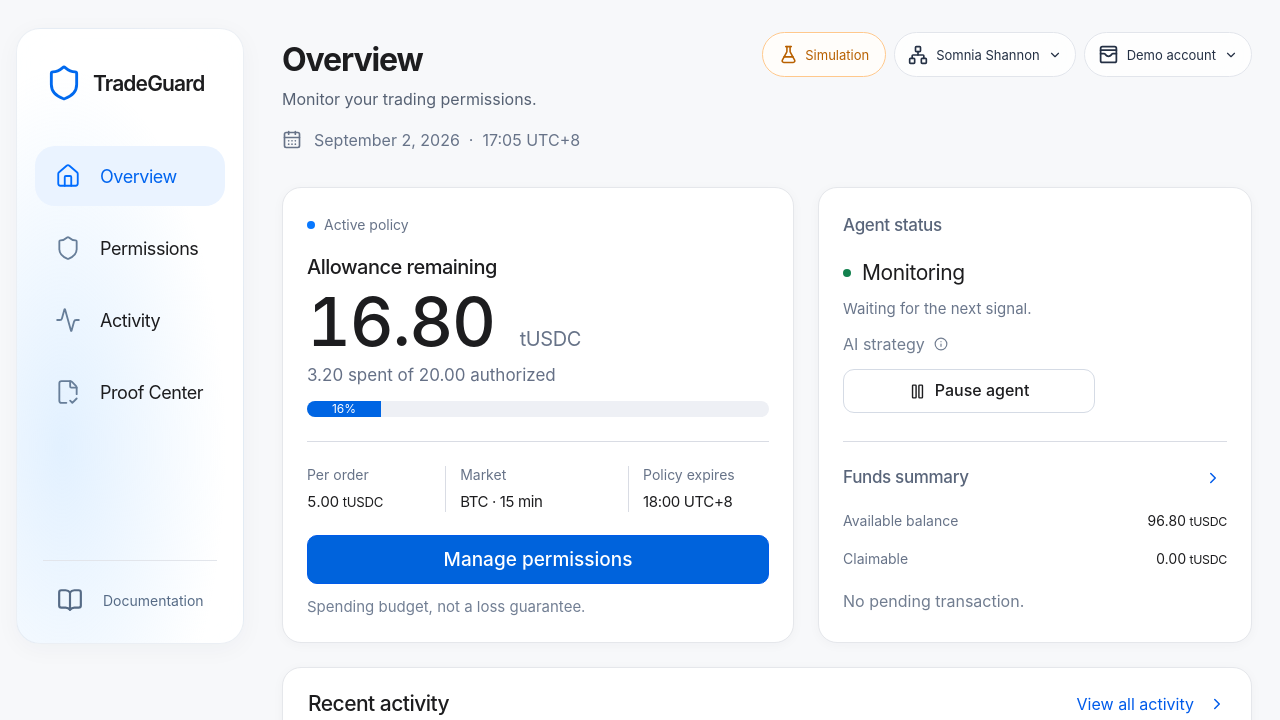
Test: working product flows › keeps the page usable after an excessive withdrawal
Click the button named "View positions & funds".
click(1213, 478)  # box [1199,464,1227,492]
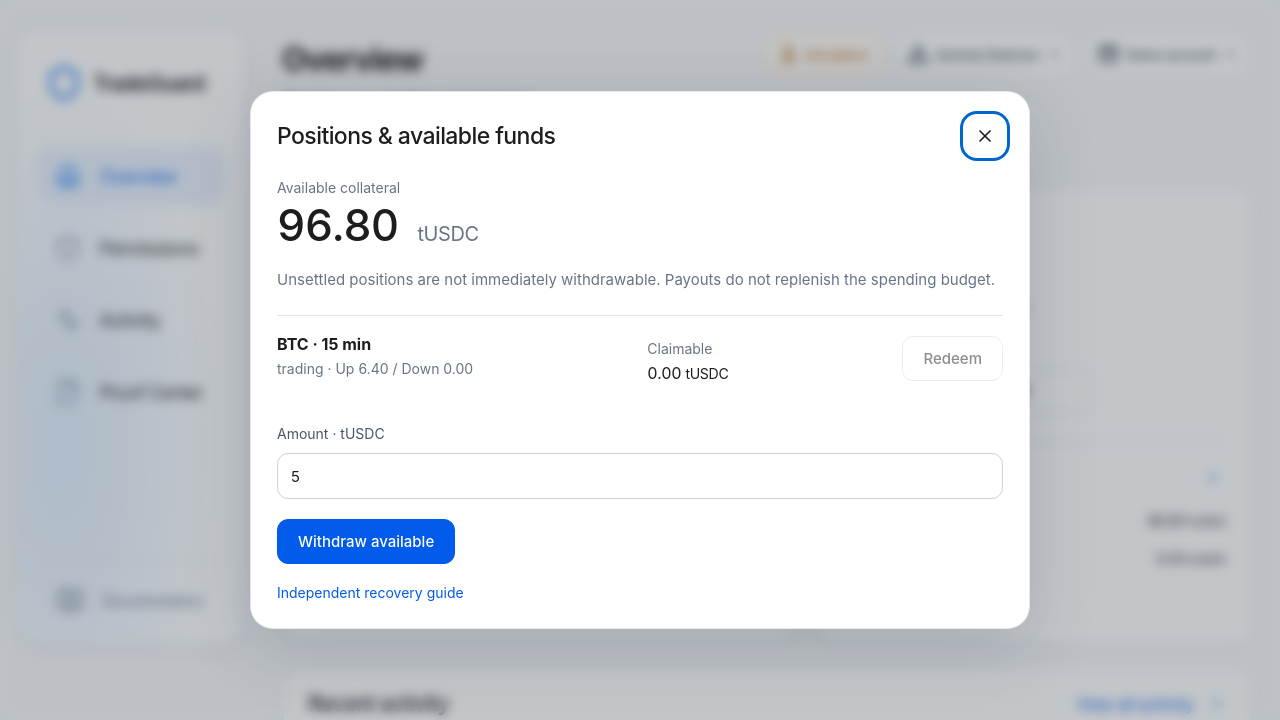
Replace the text in the field labelled "Amount · tUSDC" with "500" at (640, 476), box [277,453,1003,499]
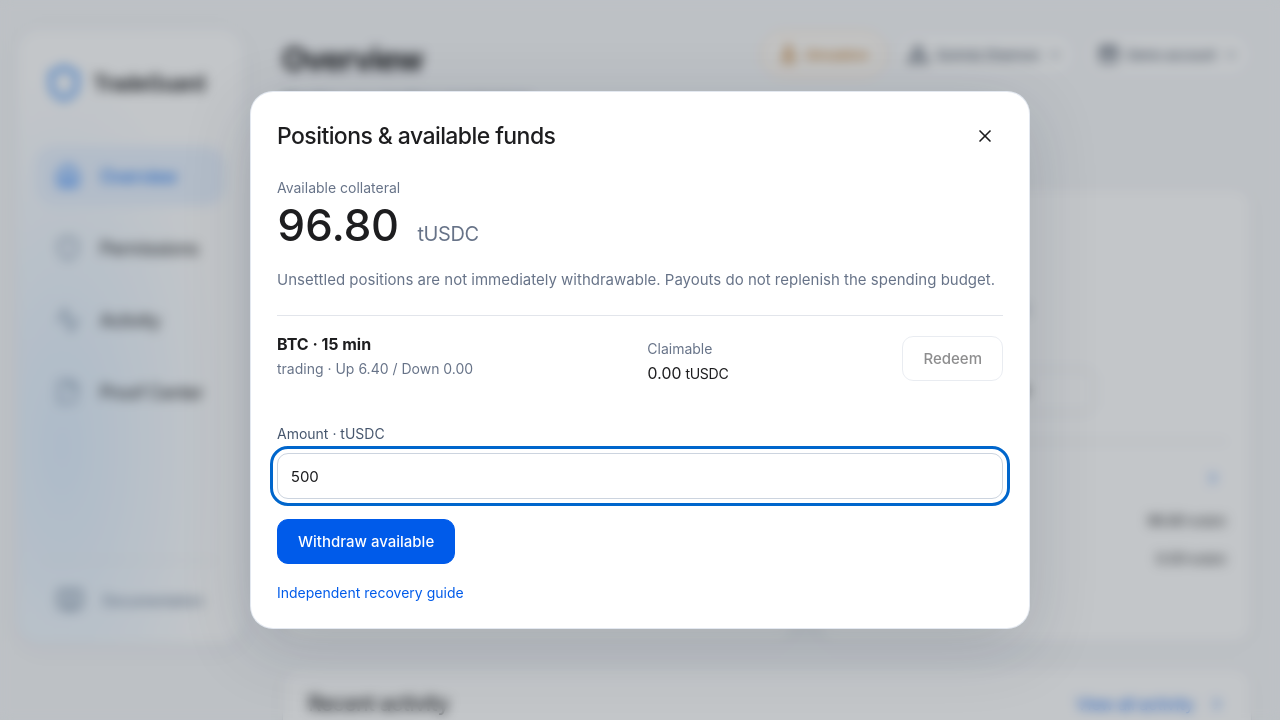
Click the button "Withdraw available".
click(366, 542)  # box [277,519,455,564]
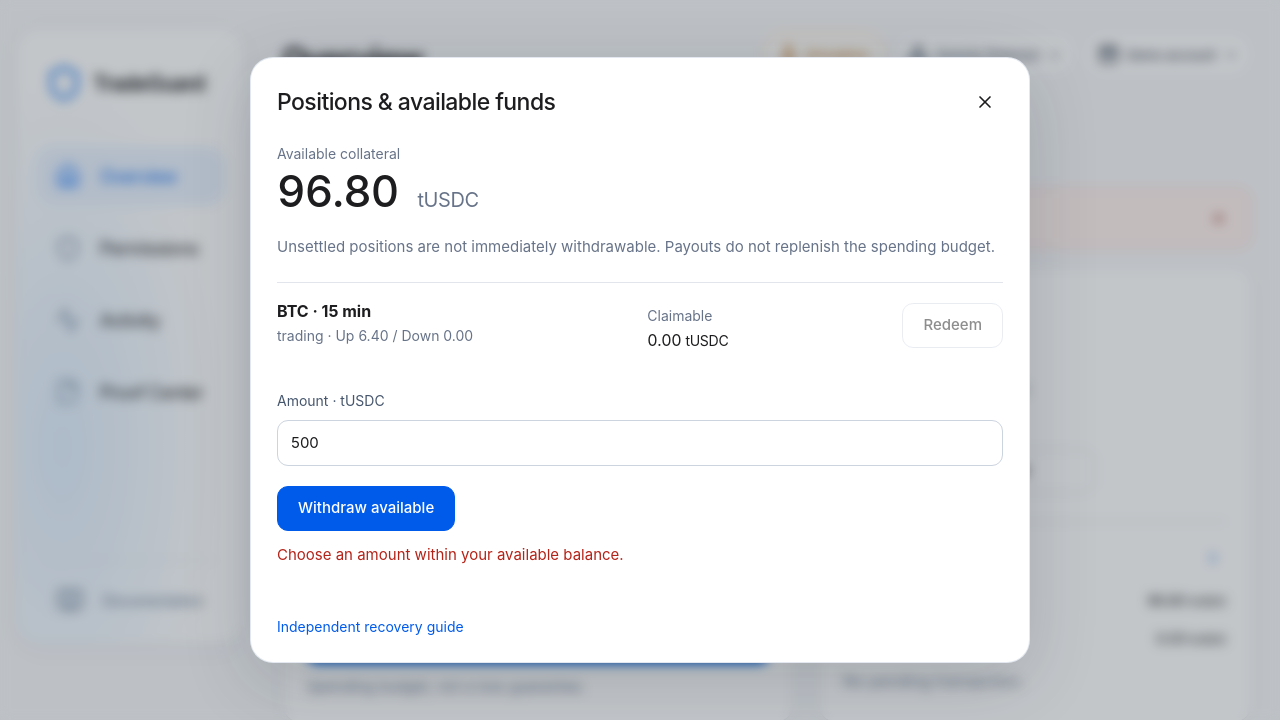
Check: the dialog shows "Choose an amount within your available balance.", box [277,545,624,564]
